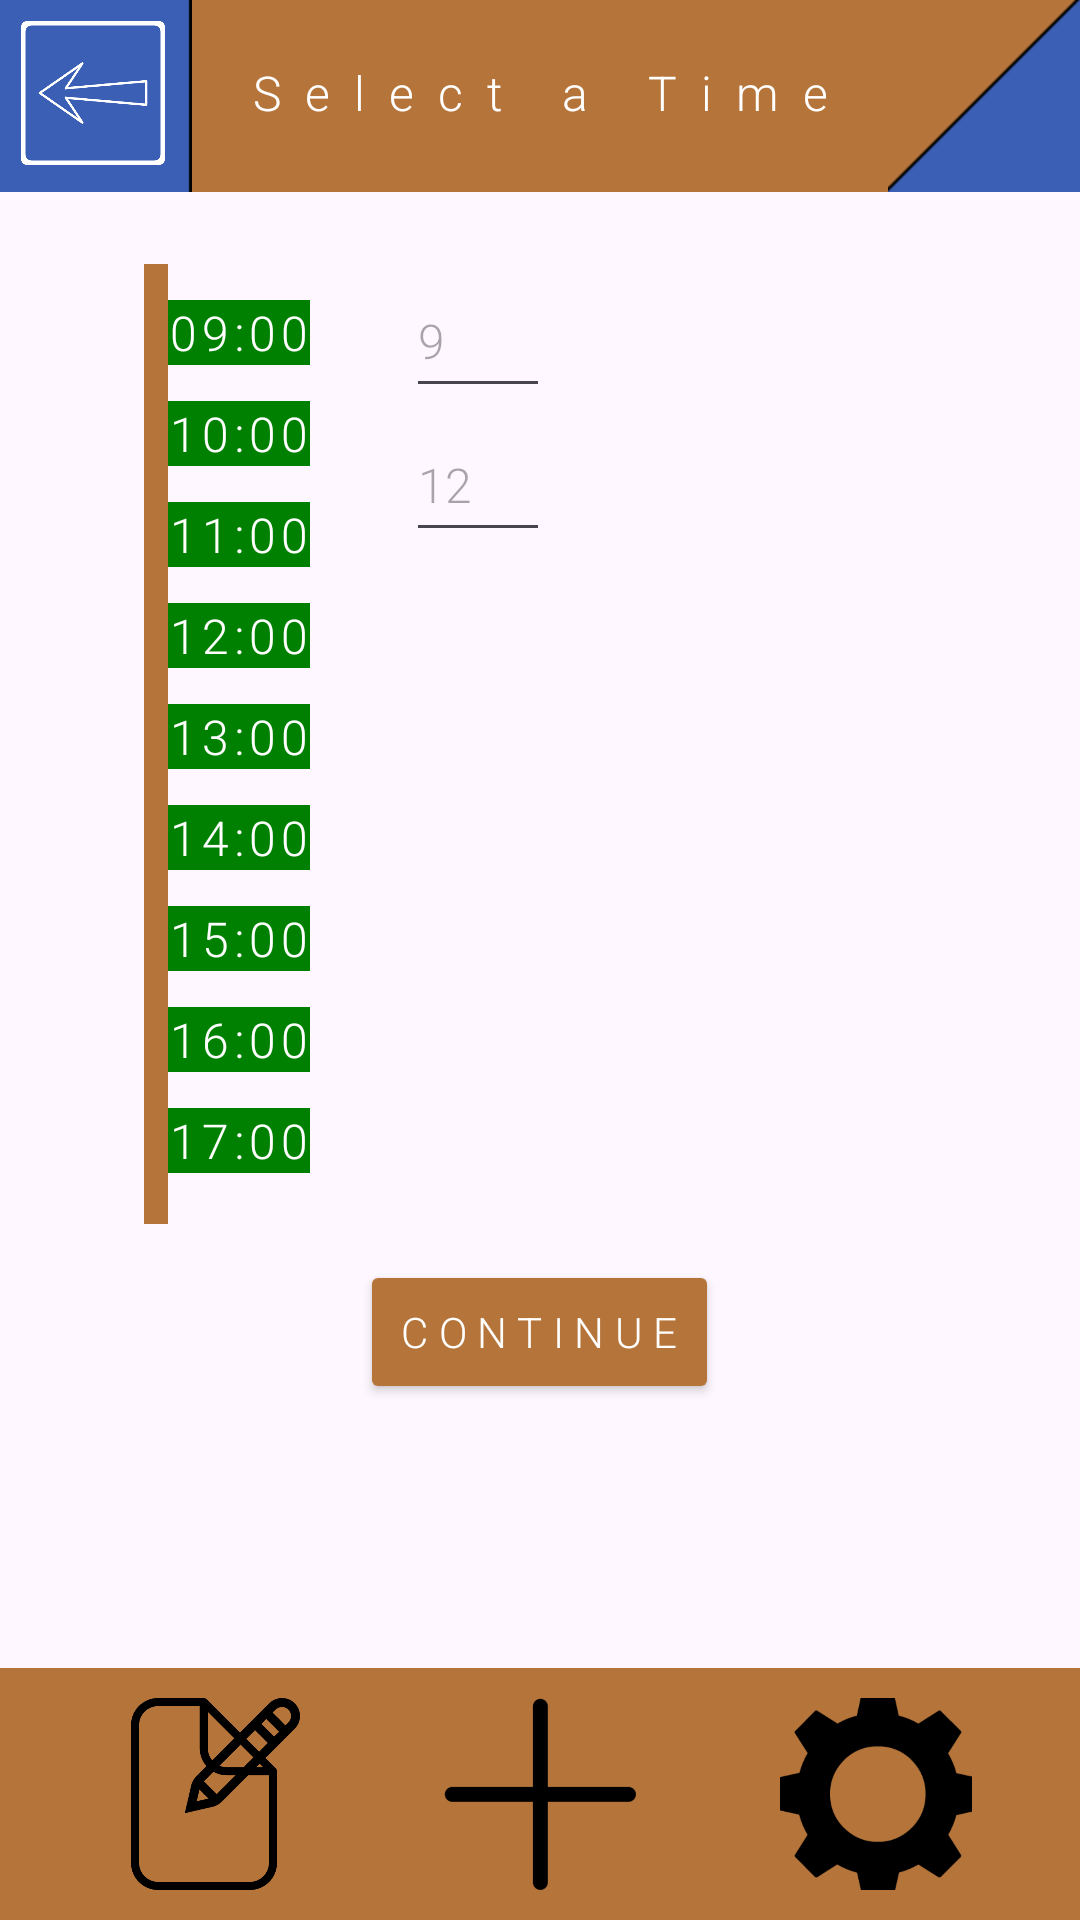

Screen size 1080×1920. Icon name, then its center in pixels as (x,y):
create booking: (540,1794)
settings: (876,1794)
